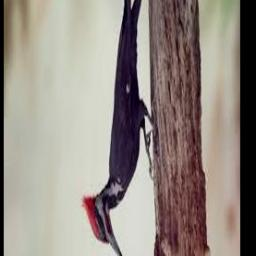Woodpecker: (82, 0, 154, 256)
